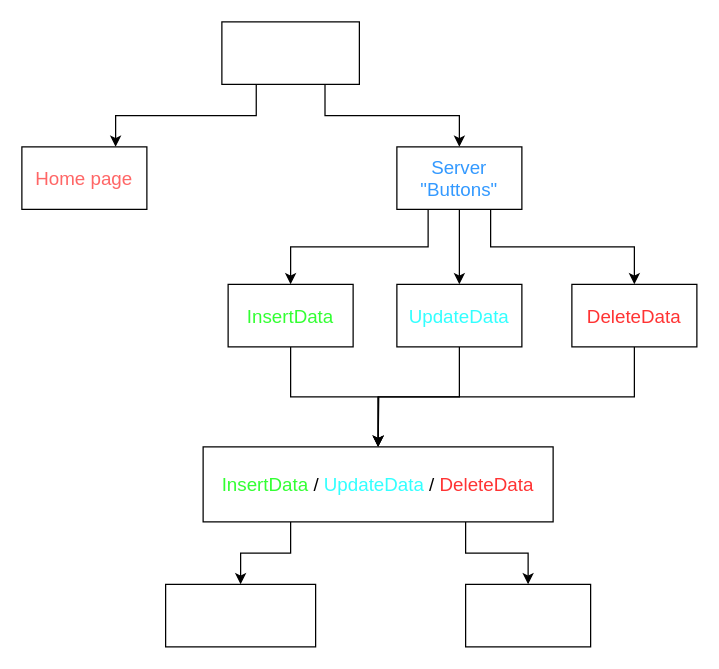
Image size: 719x669. Some labels were removed from this diagram. Here are the shapes that lost their labels. From the top down, the box of each, then its label:
(221, 21, 359, 84): App.vue
(164, 583, 316, 647): Dynamic table
(464, 583, 591, 647): Form
